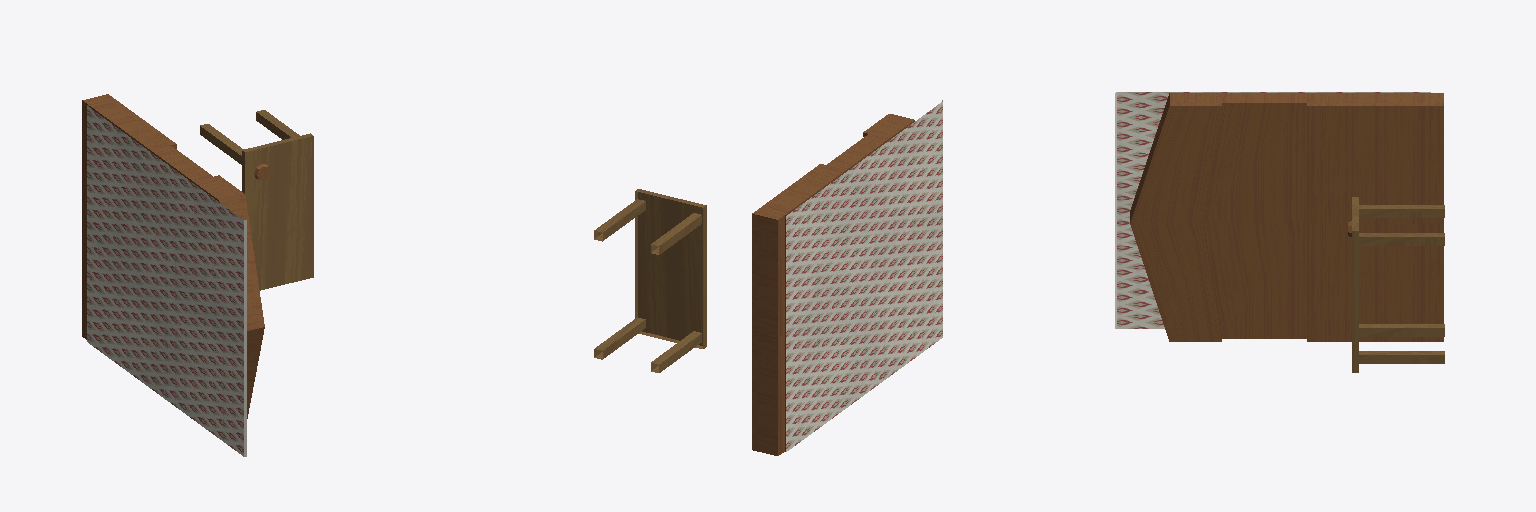
3 views of the same model, side by side, from view 1: azimuth 30°, elevation 25°; view 2: azimuth 150°, elevation 25°; view 3: azimuth 270°, elevation 25° (orthographic).
Visible parts, largest first — view 1: Plane, Table, Cube; view 2: Plane, Table, Cube; view 3: Cube, Plane, Table.
Boxes of the visible parts, x1=… form: Plane: x1=87, y1=105, x2=246, y2=456; Table: x1=200, y1=110, x2=313, y2=290; Cube: x1=82, y1=94, x2=264, y2=418; Plane: x1=785, y1=100, x2=942, y2=451; Table: x1=594, y1=189, x2=706, y2=372; Cube: x1=752, y1=114, x2=914, y2=455; Cube: x1=1130, y1=93, x2=1443, y2=341; Plane: x1=1115, y1=92, x2=1430, y2=328; Table: x1=1348, y1=197, x2=1444, y2=372.
Size of the model in its own units: 1.66 by 2 by 2.53.
2 materials, 2 textured.